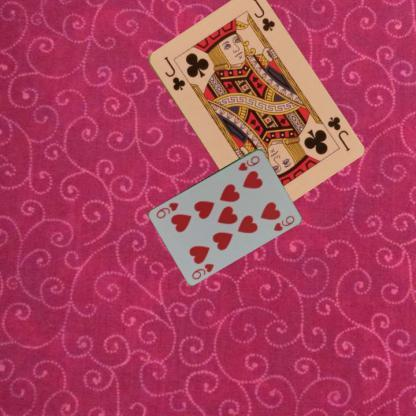9h: (188, 260, 216, 280), (235, 153, 261, 172)
Jc: (324, 113, 351, 153), (162, 53, 186, 92)
